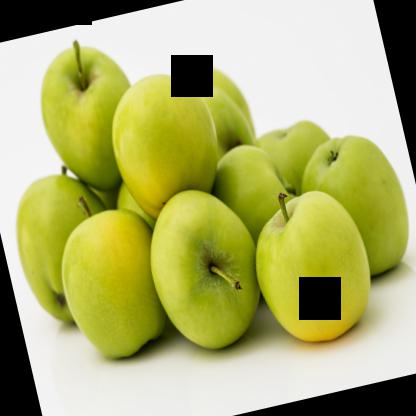apple: (140, 179, 277, 362), (242, 180, 384, 355), (48, 193, 175, 368), (102, 63, 231, 224), (5, 165, 124, 335), (31, 28, 150, 196), (294, 126, 414, 280), (199, 134, 304, 262)
